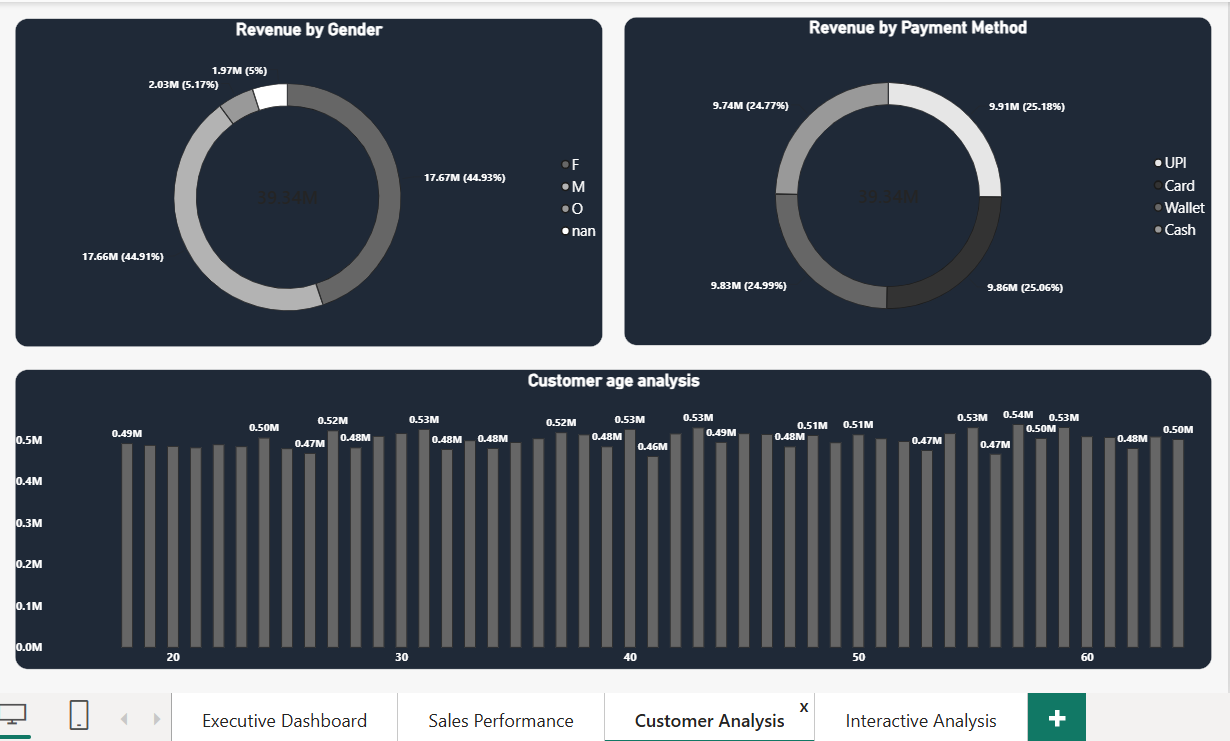

Layout of this report page (visuals, bound fields, positions):
{"tool":"powerbi","page":{"name":"Customer Analysis","canvas":[1920,1080],"ordinal":2},"visuals":[{"type":"donutChart","title":"Revenue by Gender","fields":{"Category":["Fact sales.Customer_Gender"],"Y":["Fact sales.Total Revenue"]},"box":[22.7,25.5,918.4,513.1],"z":0},{"type":"donutChart","title":"Revenue by Payment Method","fields":{"Y":["Fact sales.Total Revenue"],"Category":["Fact sales.Payment_Mode"]},"box":[975.3,23.4,918.4,513.1],"z":1000},{"type":"columnChart","title":"Customer age analysis","fields":{"Category":["Fact sales.Customer_Age"],"Y":["Fact sales.Total Revenue"]},"box":[23.4,574.4,1870.9,468.9],"z":2000}]}

Visuals, with their boxes on the page's 1920x1080 design canvas (x1, y1, x2, y2). These are canvas units, not pixel positions in the 1230x741 screenshot, which may show the page scaled, cropped or inside an application window:
"Revenue by Gender" donutChart: BBox(23, 26, 941, 539)
"Revenue by Payment Method" donutChart: BBox(975, 23, 1894, 536)
"Customer age analysis" columnChart: BBox(23, 574, 1894, 1043)
